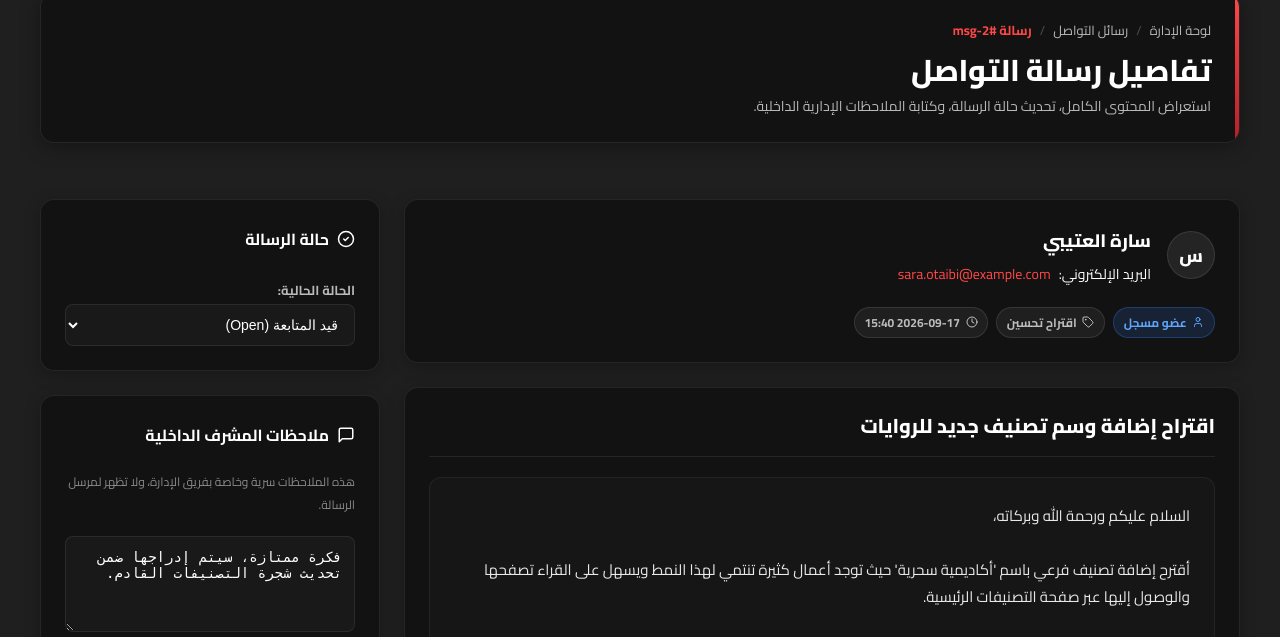
AdminContactDetail Component › updates and saves internal supervisor notes
Step 1. Replace the text in the text box named "ملاحظات المشرف الداخلية" with "تم الاتفاق مع المطور على إضافة التصنيف في الإصدار القادم." → (210, 584), box [65,536,355,632]
(page scrolled)
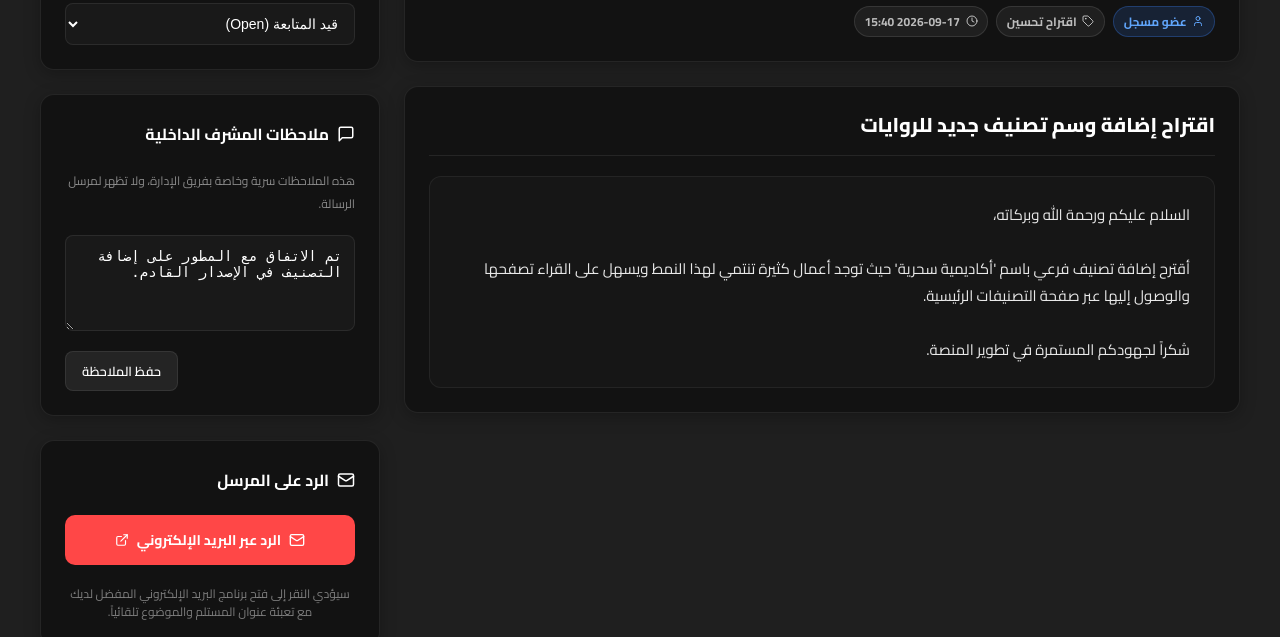
Step 2. Click the button "حفظ الملاحظة" → (122, 371), box [65,351,178,391]
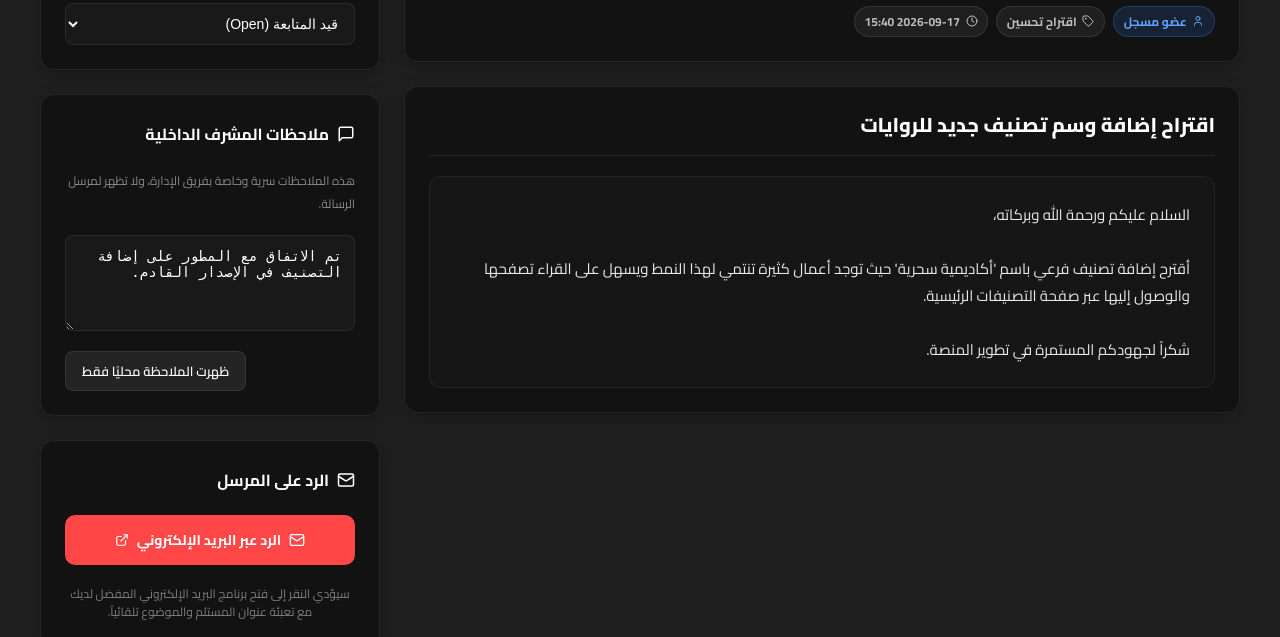
Now the button "ظهرت الملاحظة محليًا فقط" is shown, box [65,351,246,391]
